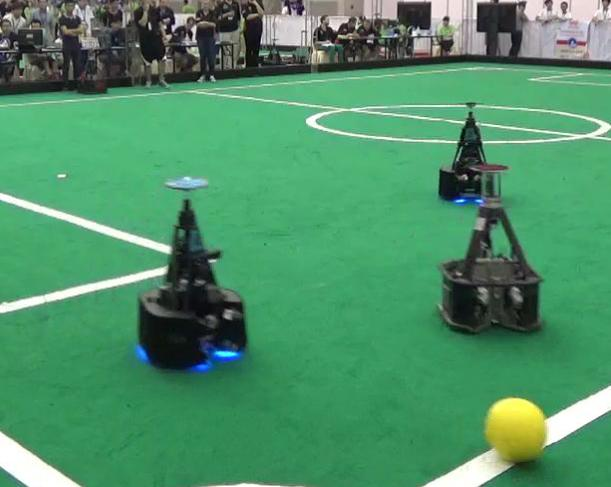robot: (125, 177, 252, 377), (438, 167, 543, 340), (435, 99, 503, 206)
